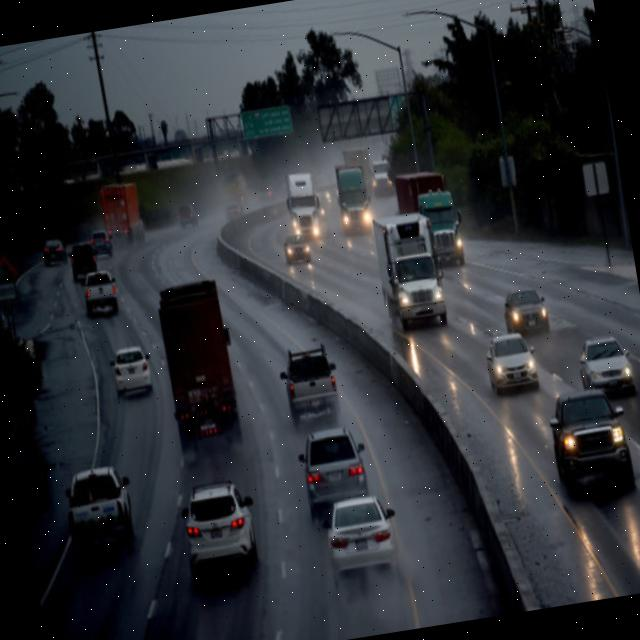bus: (154, 276, 246, 452), (372, 218, 449, 327), (395, 170, 466, 268), (99, 180, 150, 247), (284, 172, 326, 242), (336, 168, 374, 234), (368, 154, 396, 202)
car: (544, 382, 640, 508), (178, 476, 263, 579), (296, 425, 374, 529), (322, 491, 402, 578), (64, 461, 138, 546), (276, 344, 343, 423), (482, 329, 542, 398), (577, 332, 635, 396), (500, 285, 552, 340), (110, 344, 156, 398), (80, 268, 122, 320), (66, 241, 100, 284), (282, 232, 314, 266), (38, 236, 68, 266), (176, 201, 202, 234), (88, 224, 115, 252), (224, 202, 247, 226)
